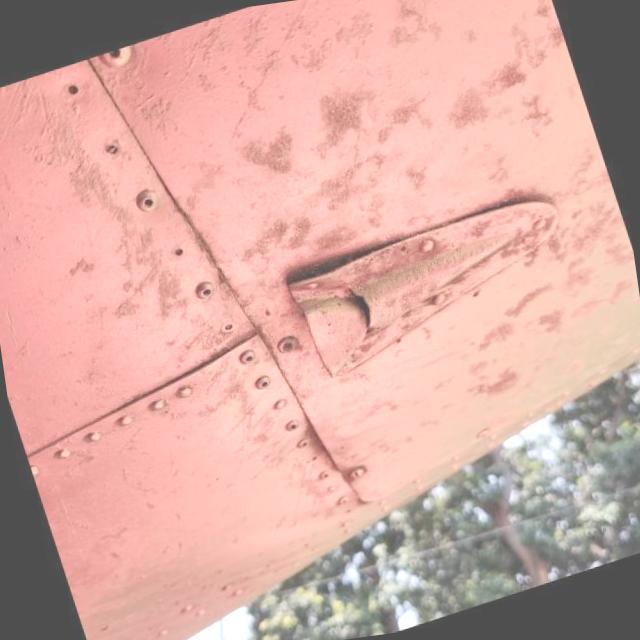Missing Fastener: (166, 240, 192, 262), (305, 450, 325, 466)
